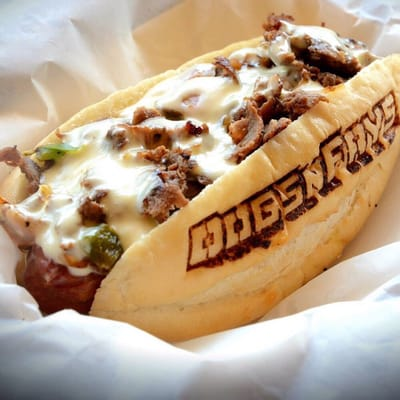sandwich: (1, 12, 398, 382)
